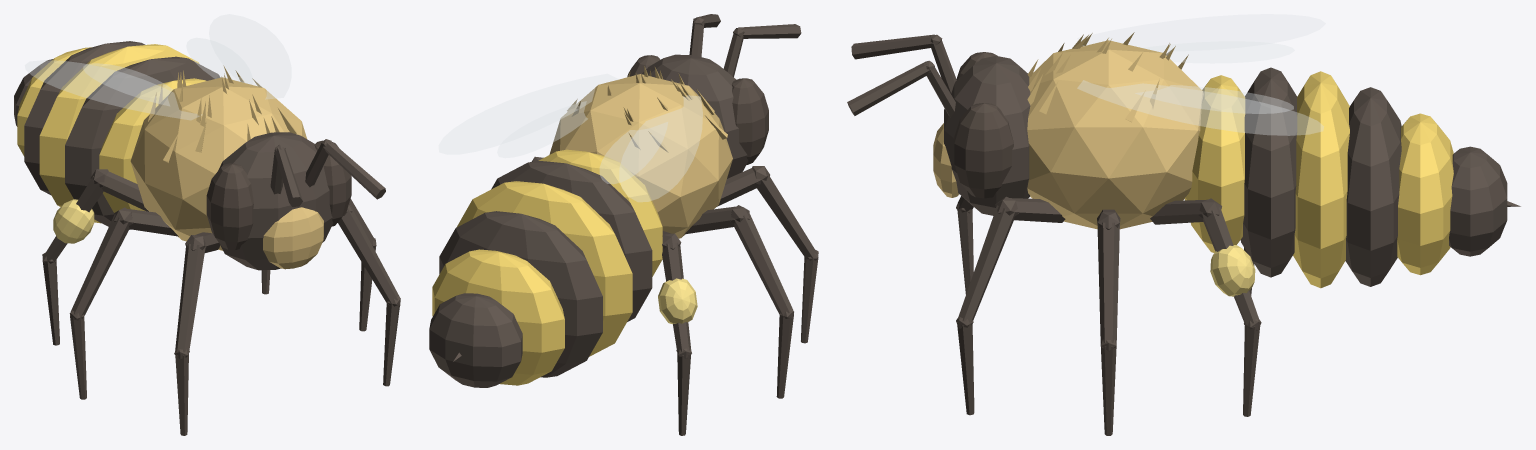
File: abeille.glb
3 renders of one model, left to right at view 1: azimuth 30°, elevation 25°; view 2: azimuth 150°, elevation 25°; view 3: azimuth 270°, elevation 25°, orthographic. The views are drawn at different scales.
Parts seen in each view (by area): view 1: Abeille_Body, Wing_L_flap, Wing_R_flap, Leg_L3_1, Leg_L1_1, Leg_L2_1, HindWing_L_flap, Leg_R1_1, HindWing_R_flap, Antenna_R_1, Leg_L2_2, Leg_L3_2 (+7 smaller); view 2: Abeille_Body, Wing_L_flap, Wing_R_flap, Leg_L3_1, HindWing_R_flap, HindWing_L_flap, Leg_L2_1, Leg_L1_1, Leg_L2_2, Leg_L1_2, Leg_L3_2, Antenna_L_1 (+4 smaller); view 3: Abeille_Body, Wing_R_flap, Wing_L_flap, Leg_R3_1, HindWing_R_flap, Leg_R2_1, Leg_R1_1, HindWing_L_flap, Antenna_R_1, Antenna_L_1, Leg_R2_2, Leg_R3_2 (+5 smaller).
Boxes of the visible parts, x1,y1,x2,y2 form: Abeille_Body: (14,41,351,270); Wing_L_flap: (25,60,202,120); Wing_R_flap: (209,14,291,99); Leg_L3_1: (43,169,108,262); Leg_L1_1: (175,235,206,352); Leg_L2_1: (70,207,132,317); HindWing_L_flap: (83,63,172,105); Leg_R1_1: (338,203,399,303); HindWing_R_flap: (186,38,252,84); Antenna_R_1: (321,139,385,199); Leg_L2_2: (69,310,86,399); Leg_L3_2: (42,252,59,345); Abeille_Body: (429,54,768,387); Wing_L_flap: (619,95,702,201); Wing_R_flap: (438,74,619,154); Leg_L3_1: (658,233,697,352); HindWing_R_flap: (497,101,587,157); HindWing_L_flap: (600,122,667,183); Leg_L2_1: (730,205,793,315); Leg_L1_1: (752,166,817,259); Leg_L2_2: (776,309,793,398); Leg_L1_2: (801,250,818,343); Leg_L3_2: (676,348,691,435); Antenna_L_1: (733,24,801,38); Abeille_Body: (933,32,1520,288); Wing_R_flap: (1077,80,1323,135); Wing_L_flap: (1077,14,1325,51); Leg_R3_1: (1198,198,1259,325); HindWing_R_flap: (1135,85,1293,113); Leg_R2_1: (1097,212,1119,342); Leg_R1_1: (958,196,1018,323); HindWing_L_flap: (1145,41,1294,63); Antenna_R_1: (847,60,934,115); Antenna_L_1: (851,34,942,59); Leg_R2_2: (1100,339,1116,435); Leg_R3_2: (1243,319,1261,416).
Size of the model in its own units: 0.9008 by 0.8174 by 1.55.
